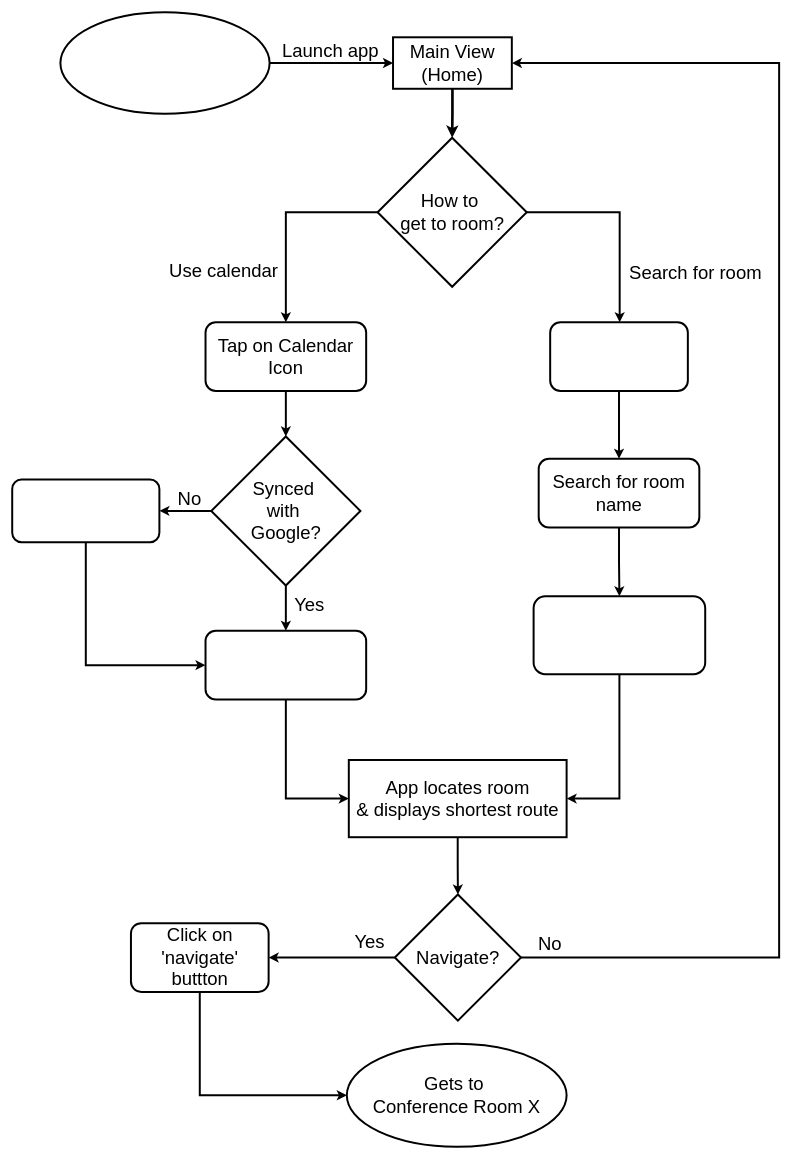
Some shapes in this 797 by 1159 pixel diagram are drawn without their labels. The shapes that lost their labels are listed below. From the top down, each one's box as (x1, y1, x2, y2) in pixels, then its label:
(59, 11, 270, 115): Need to get to Conference Room X
(549, 321, 689, 392): Tap on search bar
(11, 478, 160, 543): Authorize with Google account
(532, 595, 706, 675): Select appropriate entry from search results
(204, 629, 367, 700): Tap on calendar event
